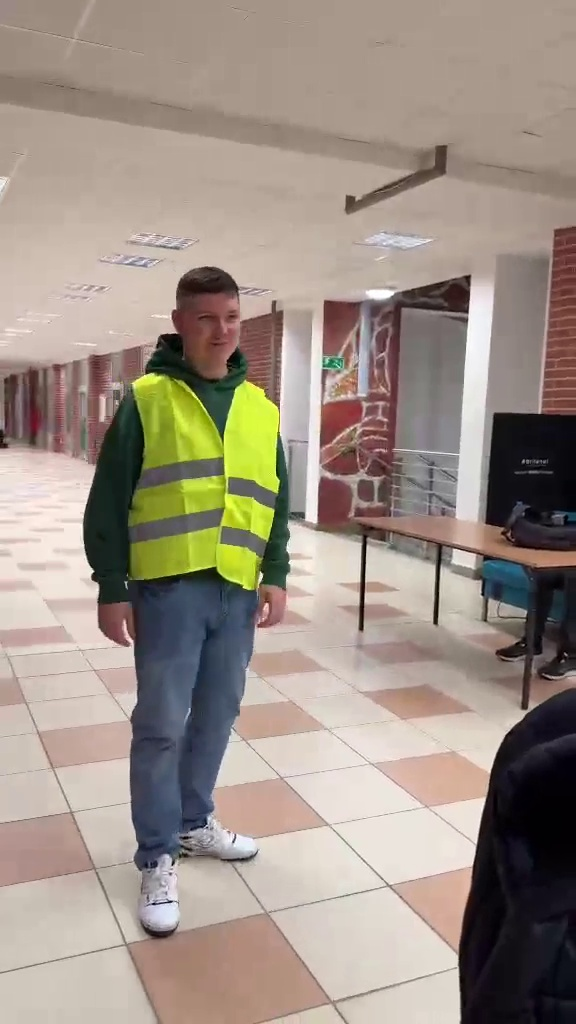vest: (81, 259, 297, 935)
